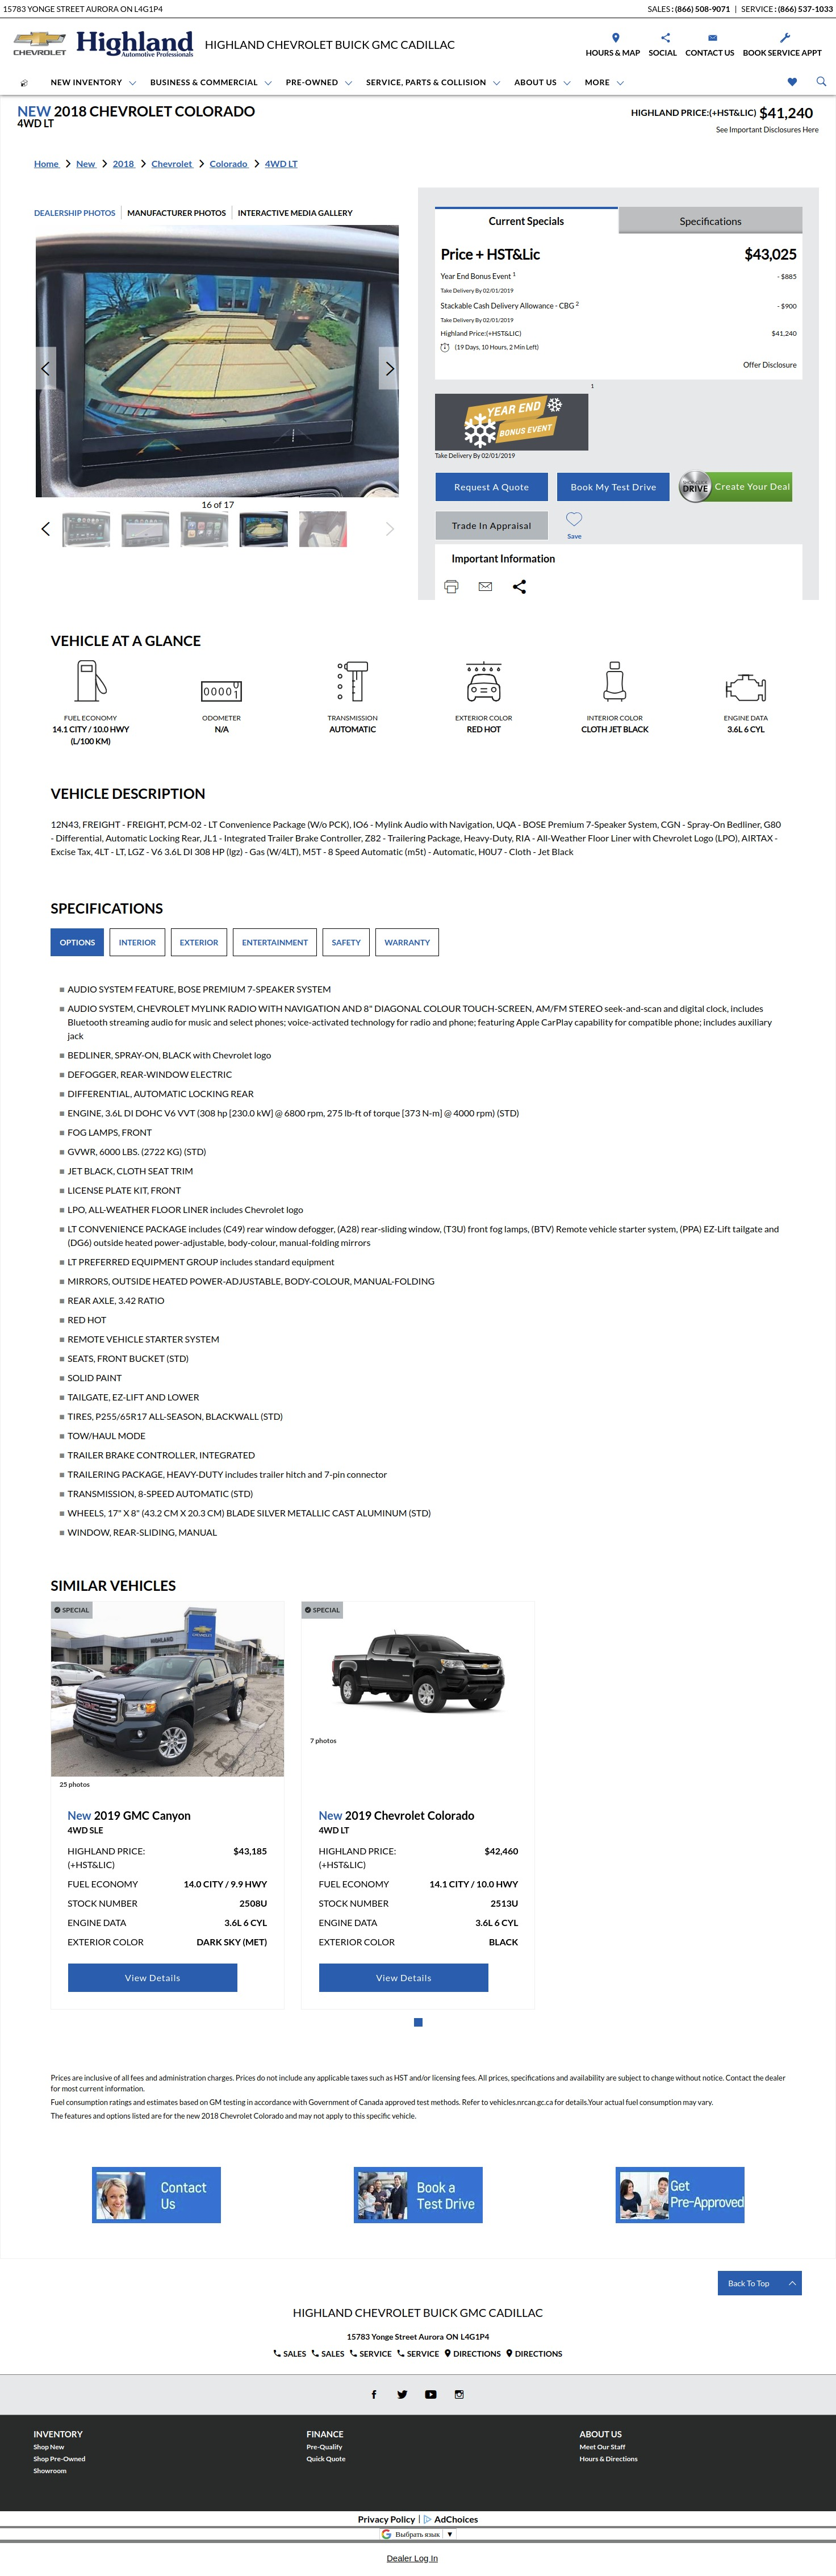car: (386, 522, 394, 536)
